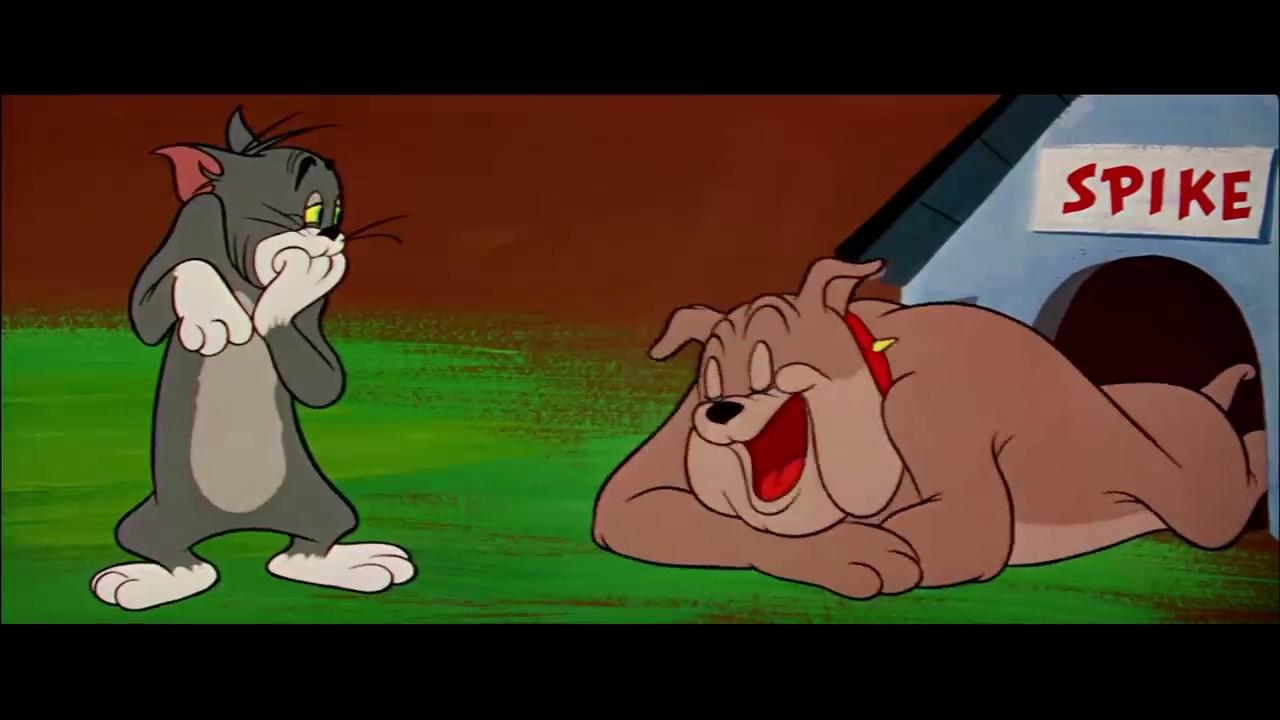Tom: (87, 103, 417, 612)
